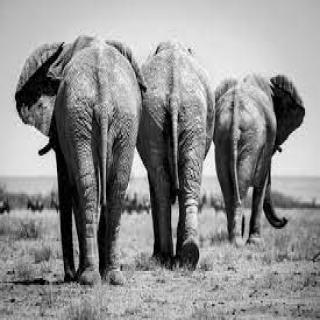Elephant: (15, 33, 148, 285), (130, 35, 214, 273), (214, 70, 310, 247)
